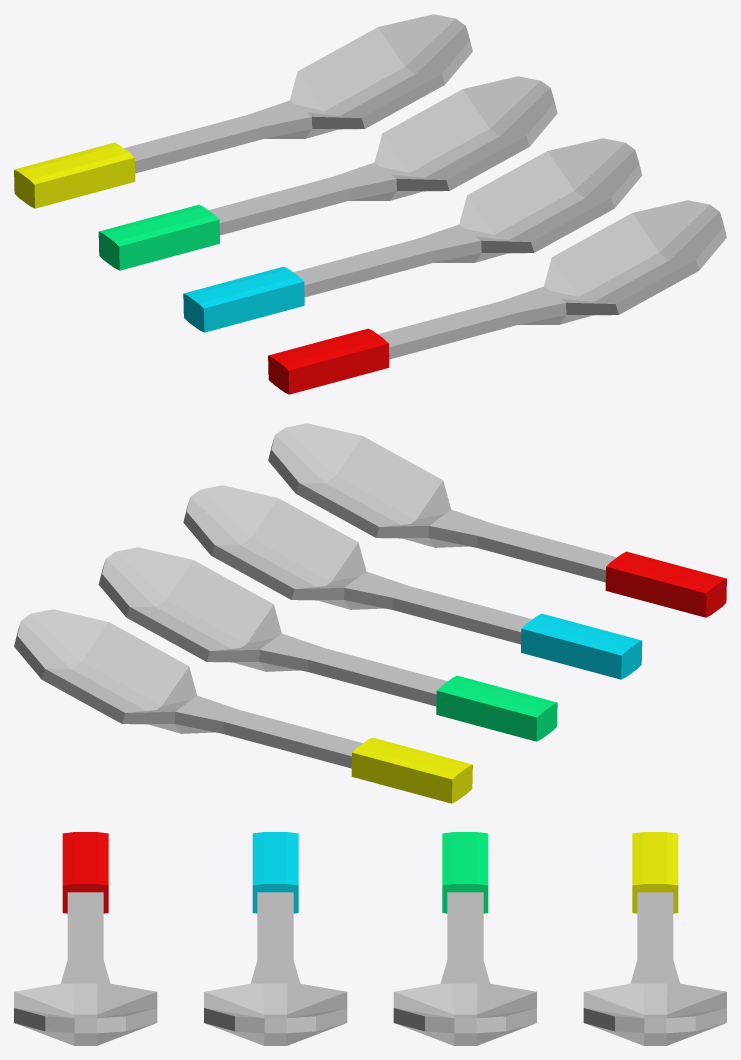
The model's file is 8c4563ed-c81e-4147-b14d-7847626cbe96.glb.
3 views of the same model, one above another, from view 1: azimuth 30°, elevation 25°; view 2: azimuth 150°, elevation 25°; view 3: azimuth 270°, elevation 25° (orthographic). The views are drawn at different scales.
Parts seen in each view (by area): view 1: Box003, Box004, Box001, Box002; view 2: Box002, Box001, Box004, Box003; view 3: Box001, Box004, Box002, Box003.
Boxes of the visible parts, <box> form: Box003: <box>183,138,642,332</box>; Box004: <box>268,200,726,394</box>; Box001: <box>14,14,472,208</box>; Box002: <box>98,76,557,270</box>; Box002: <box>98,547,557,741</box>; Box001: <box>14,609,472,803</box>; Box004: <box>268,423,726,617</box>; Box003: <box>183,485,642,679</box>; Box001: <box>583,832,726,1045</box>; Box004: <box>14,832,157,1045</box>; Box002: <box>393,832,536,1045</box>; Box003: <box>204,832,347,1045</box>.
Size of the model in its own units: 342238 by 55476 by 428236.
